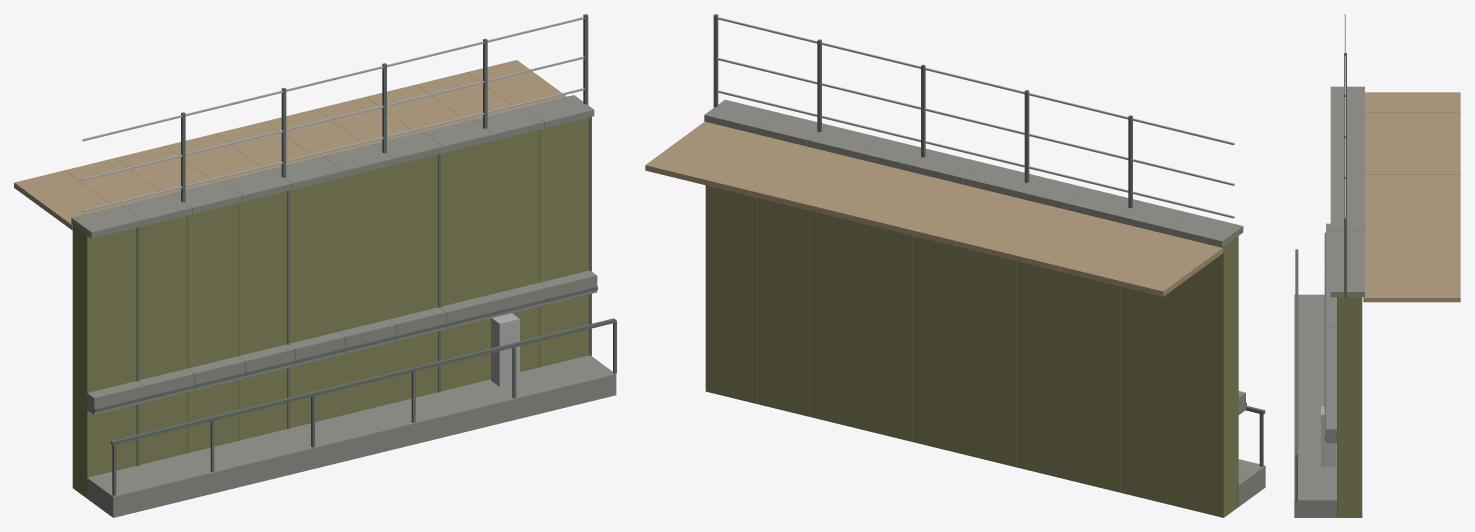
The model's file is SM_MuroRampa_v3_Pasillo_e0_Sano_LOD0.fbx.
The picture shows the model from 3 angles, left to right: view 1: azimuth 30°, elevation 25°; view 2: azimuth 150°, elevation 25°; view 3: azimuth 270°, elevation 25°; orthographic projection. The views are drawn at different scales.
Visible parts, largest first — view 1: SM_muro_rampa_v12_LOD0; view 2: SM_muro_rampa_v12_LOD0; view 3: SM_muro_rampa_v12_LOD0.
Boxes of the visible parts, x1,y1,x2,y2 form: SM_muro_rampa_v12_LOD0: [14, 14, 616, 517]; SM_muro_rampa_v12_LOD0: [645, 14, 1265, 517]; SM_muro_rampa_v12_LOD0: [1294, 14, 1460, 517].
Size of the model in its own units: 10.03 by 6.8 by 3.42.
